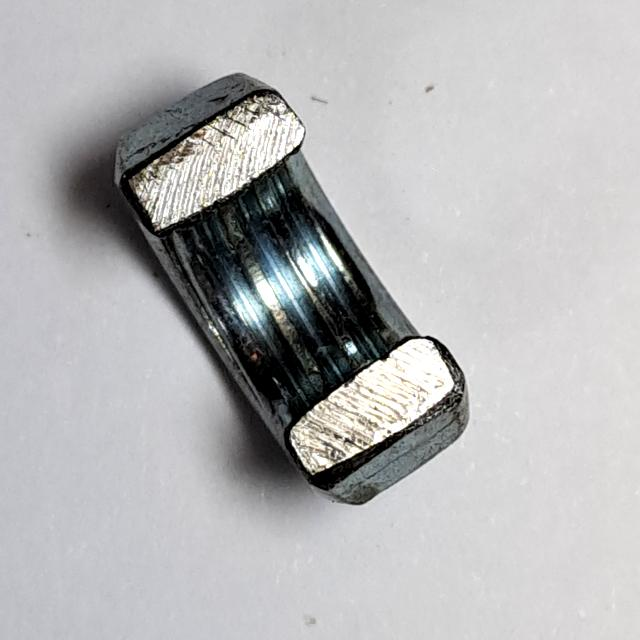Side-Fracture: (92, 62, 487, 520)
